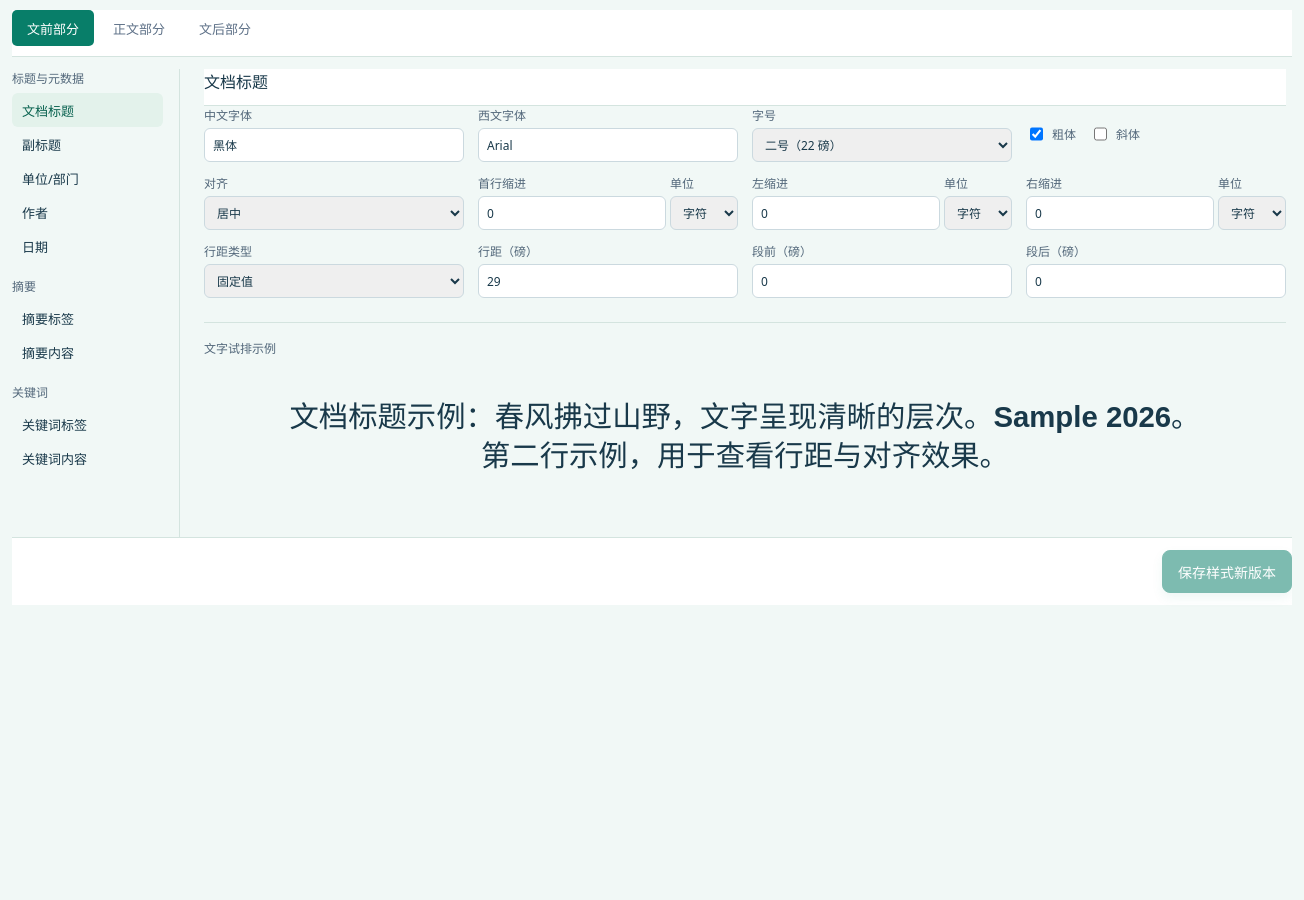
Test: StyleEditor › renders Chinese font-size labels and character-based indent controls
Click the tab "正文部分": (139, 28) [98,10,180,46]
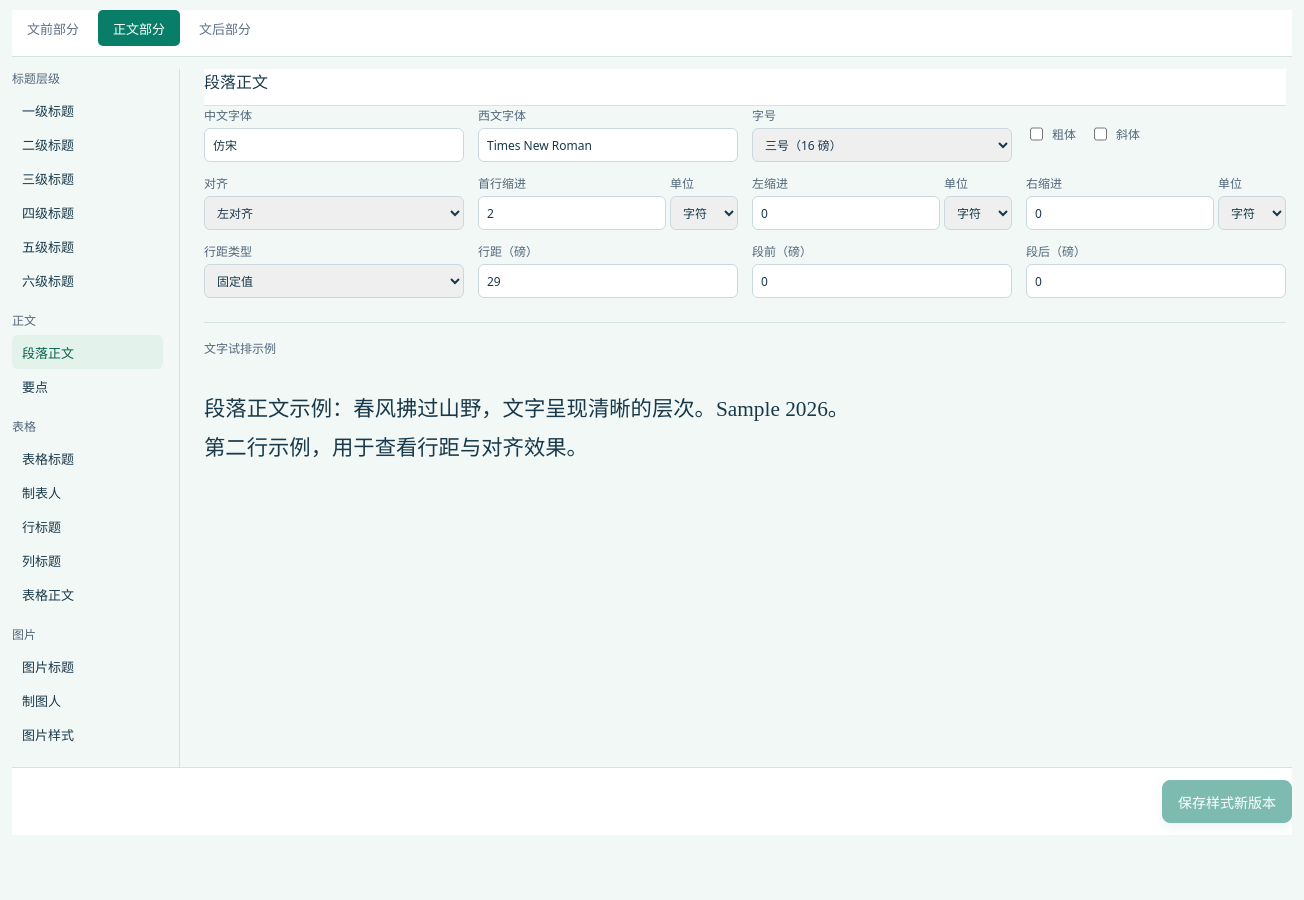
Expected: the field named "段落正文中文字体" holds "仿宋", [204,128,464,162]
Expected: the field named "段落正文西文字体" holds "Times New Roman", [478,128,738,162]
Expected: the dropdown named "段落正文字号" shows "三号（16 磅）", [752,128,1012,162]
